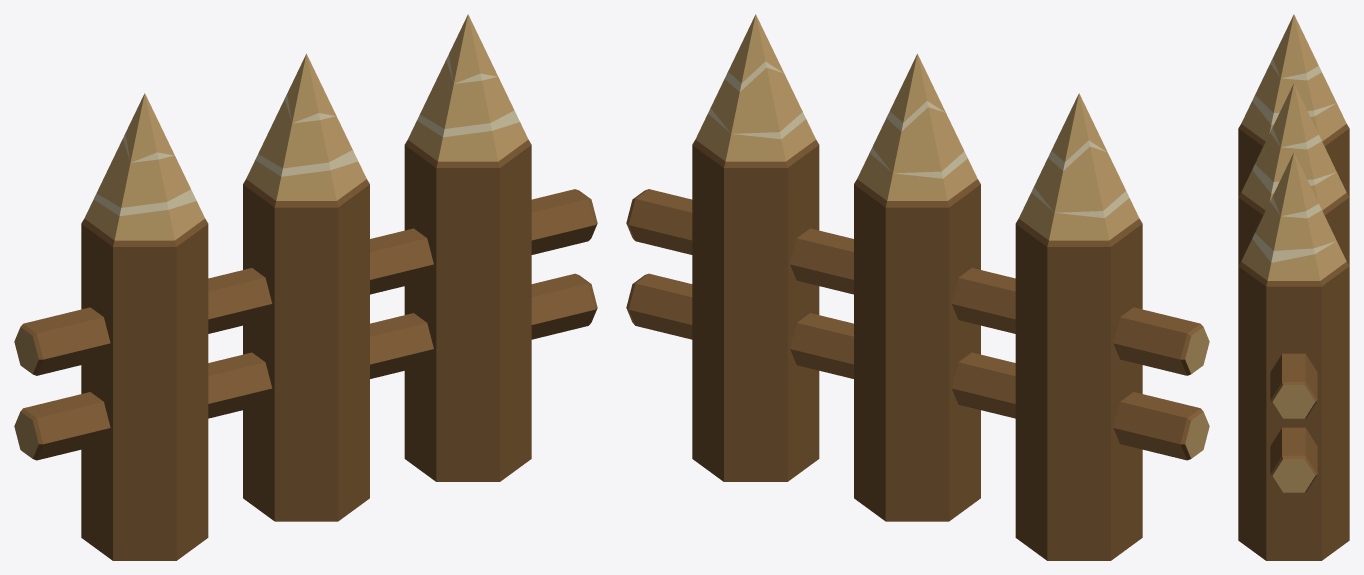
Rendered from fence_middle.fbx.
3 renders of one model, left to right at view 1: azimuth 30°, elevation 25°; view 2: azimuth 150°, elevation 25°; view 3: azimuth 270°, elevation 25°, orthographic. The views are drawn at different scales.
Parts seen in each view (by area): view 1: fence_middle; view 2: fence_middle; view 3: fence_middle.
Boxes of the visible parts, x1,y1,x2,y2 form: fence_middle: [14, 14, 597, 560]; fence_middle: [626, 14, 1209, 560]; fence_middle: [1238, 14, 1349, 560].
Bounding box in the file's own units: 173 × 131 × 34.06.
